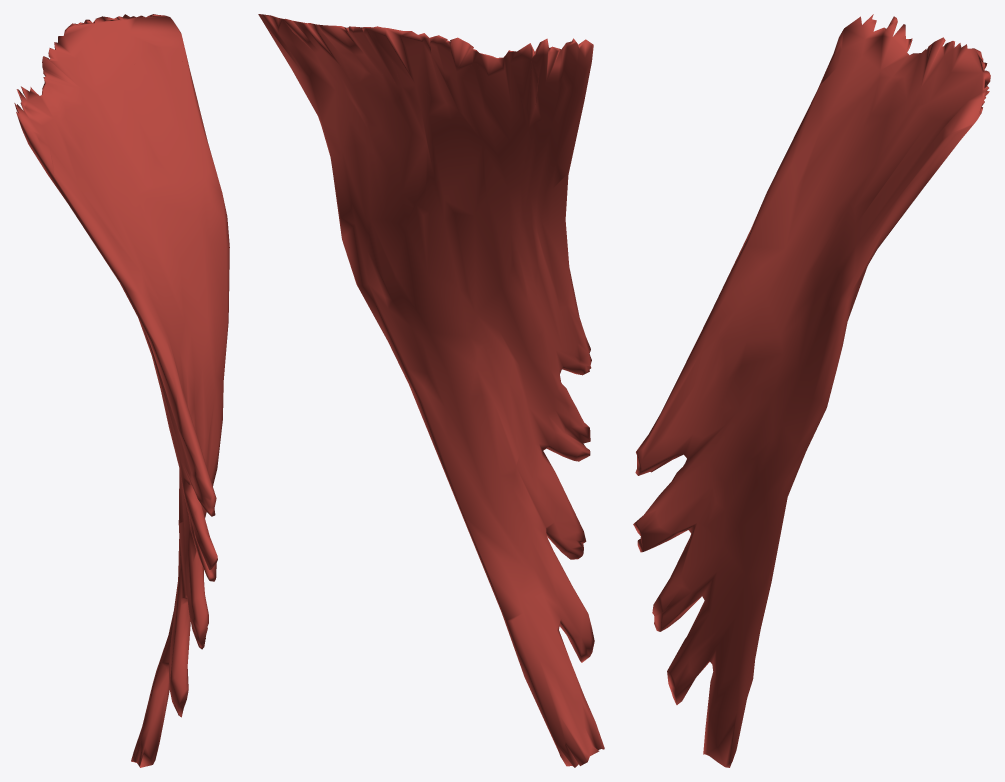
File: musculos-spinalis-capitis-muscle-r.glb
3 views of the same model, side by side, from view 1: azimuth 30°, elevation 25°; view 2: azimuth 150°, elevation 25°; view 3: azimuth 270°, elevation 25° (orthographic). The views are drawn at different scales.
Parts seen in each view (by area): view 1: Spinalis capitis muscle.r; view 2: Spinalis capitis muscle.r; view 3: Spinalis capitis muscle.r.
Part boxes in pixels (x1,y1,x2,y2): Spinalis capitis muscle.r: [14, 14, 229, 767]; Spinalis capitis muscle.r: [258, 14, 604, 767]; Spinalis capitis muscle.r: [633, 14, 990, 767].
Size of the model in its own units: 0.0414 by 0.1241 by 0.0546.
